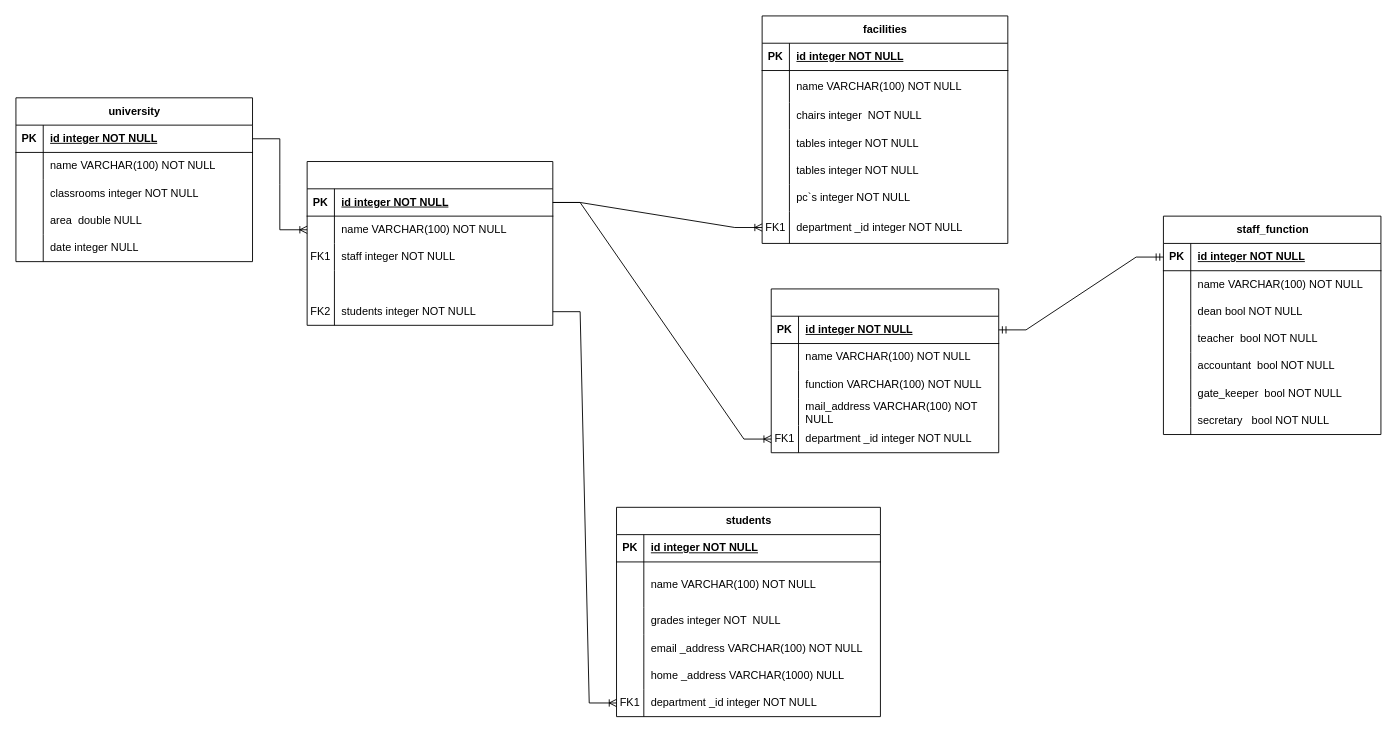
Image size: 1397x733. Some labels were removed from this diagram. The shapes that lost their labels are listed below. From the top down, each one's box as (x1, y1, x2, y2) in pixels, then its label:
(306, 161, 553, 325): department
(770, 288, 999, 453): staff
